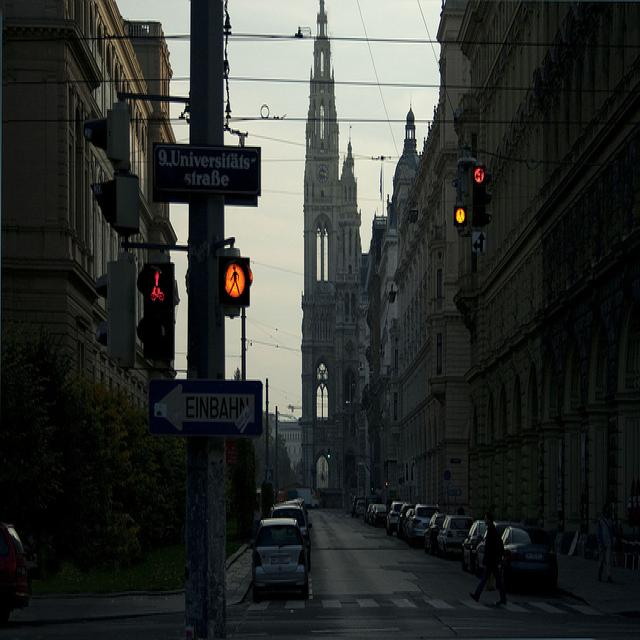Vehicle: (252, 518, 306, 606), (501, 524, 558, 593), (472, 518, 528, 575), (268, 504, 313, 568), (404, 504, 440, 550), (438, 516, 476, 554), (460, 521, 487, 572), (424, 512, 445, 555), (396, 504, 416, 542), (386, 501, 407, 537), (372, 504, 387, 528), (356, 501, 366, 518)
